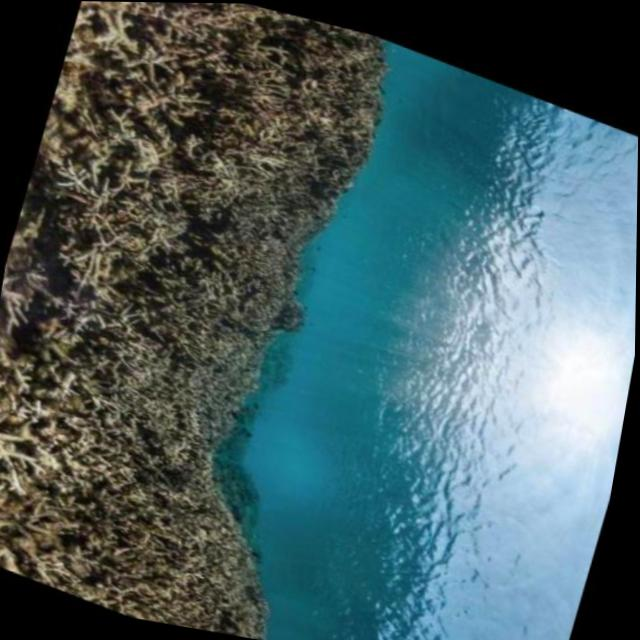Dead Coral: (0, 0, 425, 637)
